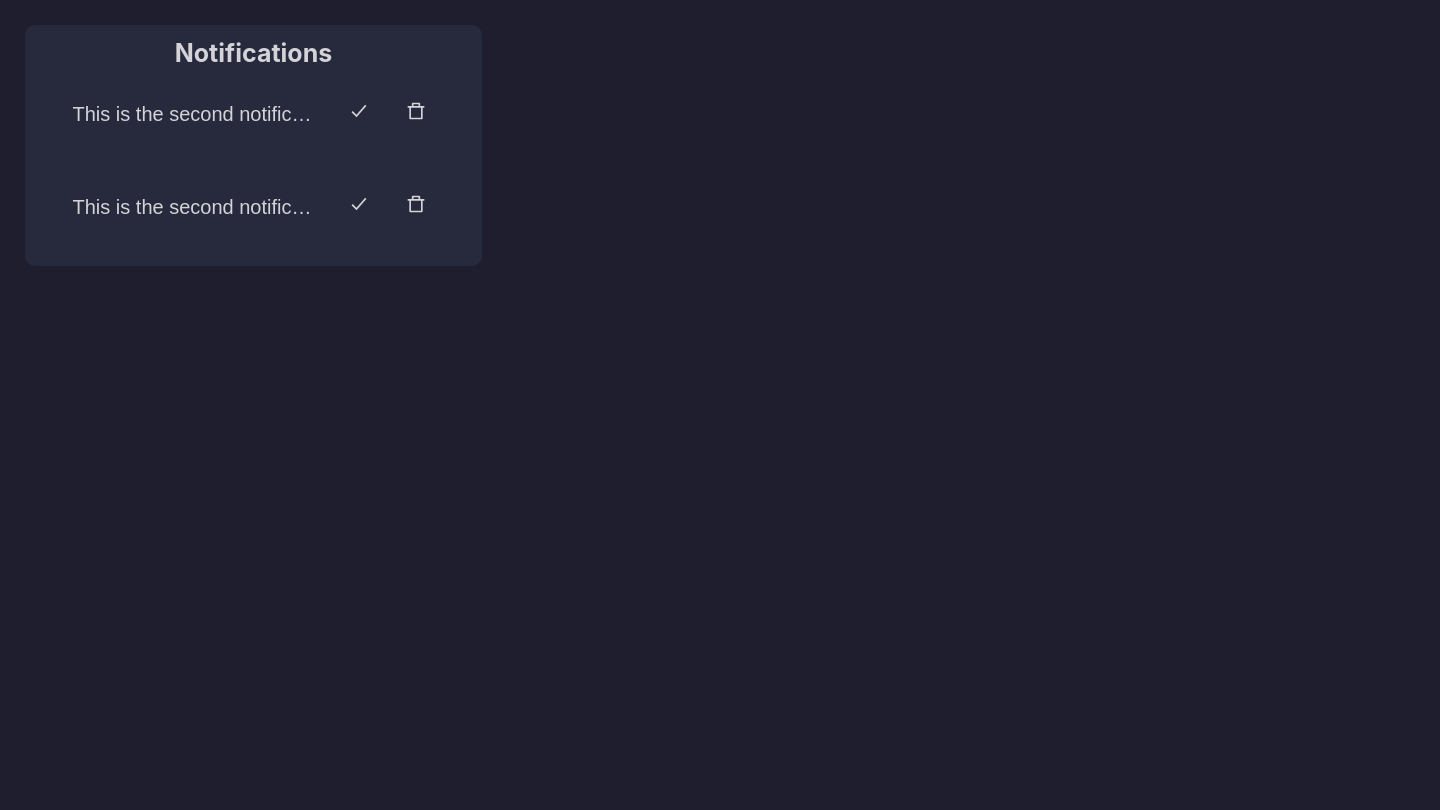
Test case: NoificationList component › It should set the selected notification correctly
Click the 1st button with test id "selectedNotification": (196, 114) [62,92,330,136]
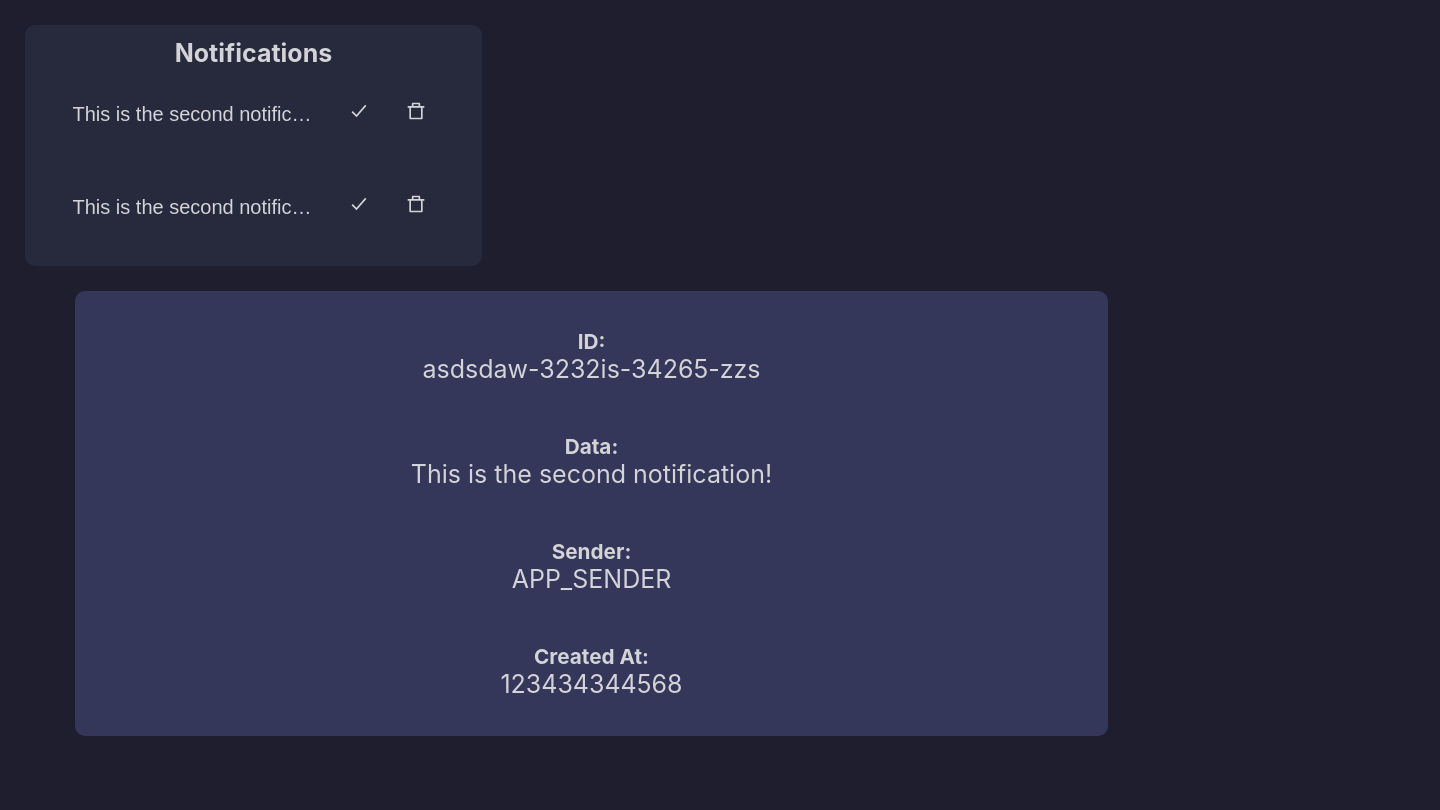
Expected: the element with test id "displayedNotificationDiv" is shown, [75,291,1108,736]
